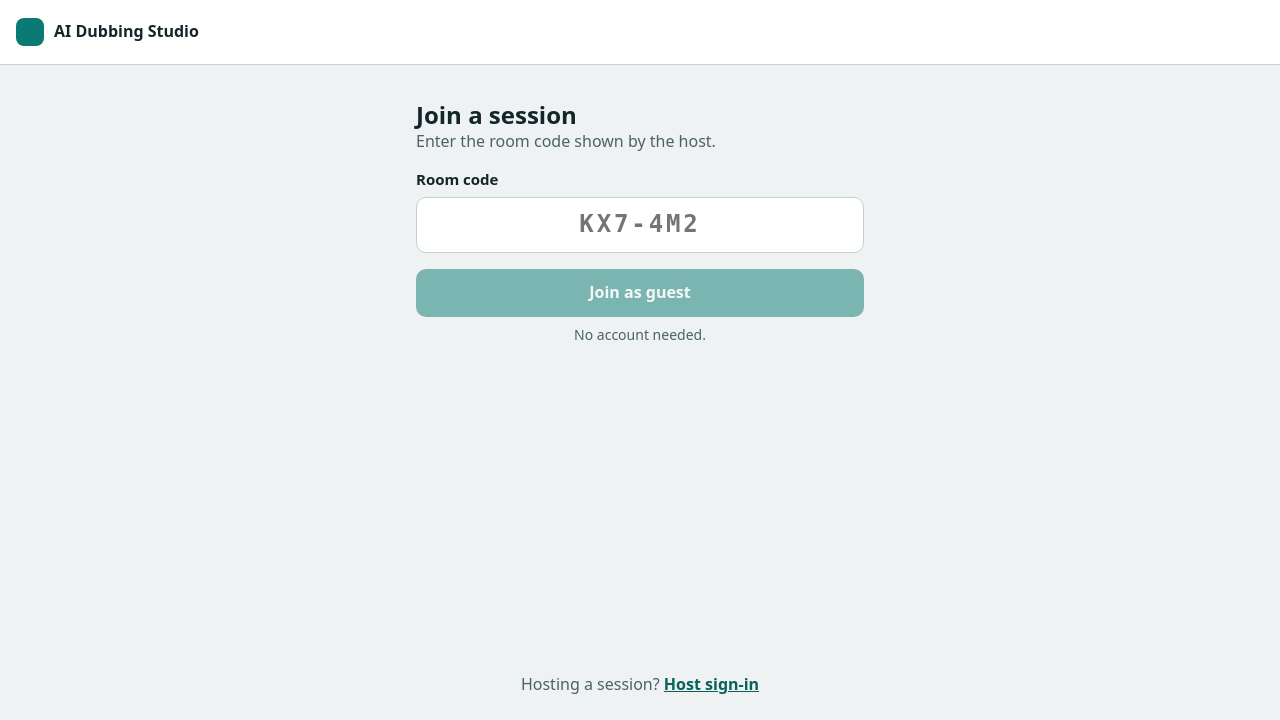
it: JoinPage › says so when no live session has the code
The image size is (1280, 720).
In the field labelled "Room code": (640, 225) x1=416 y1=197 x2=864 y2=253, type "kx74m2"
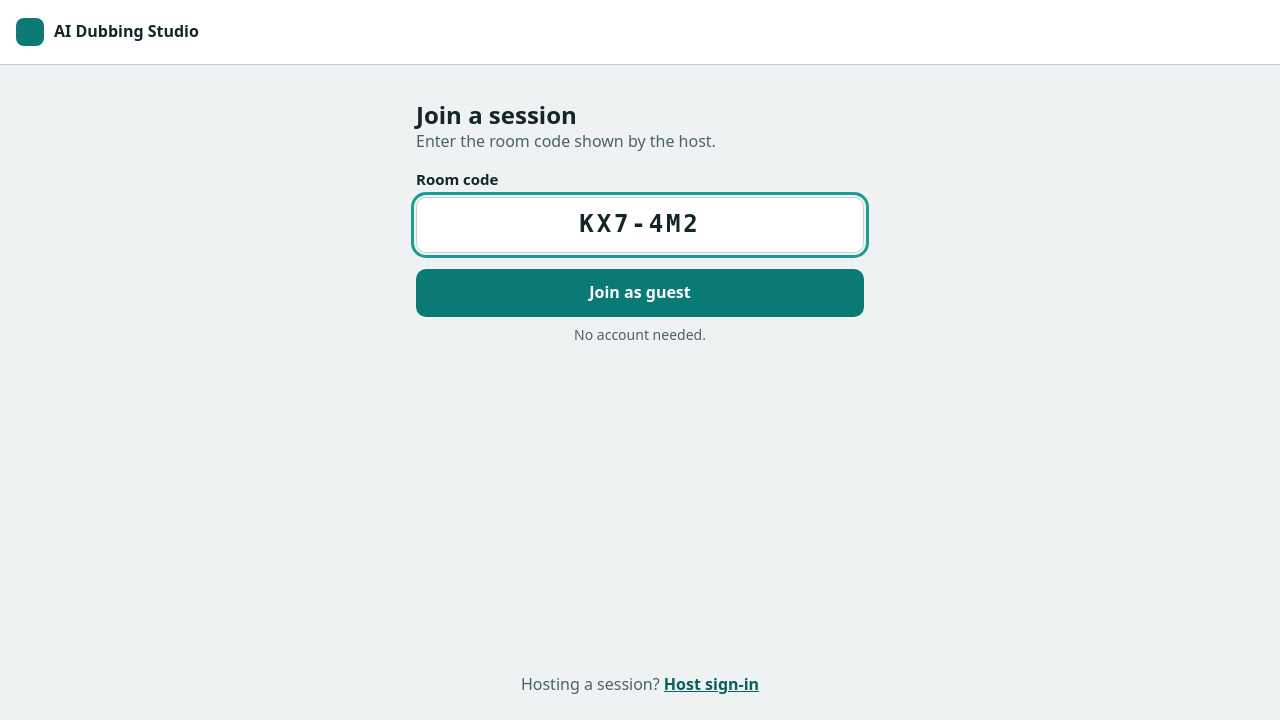
Click the button "Join as guest": (640, 293) x1=416 y1=269 x2=864 y2=317
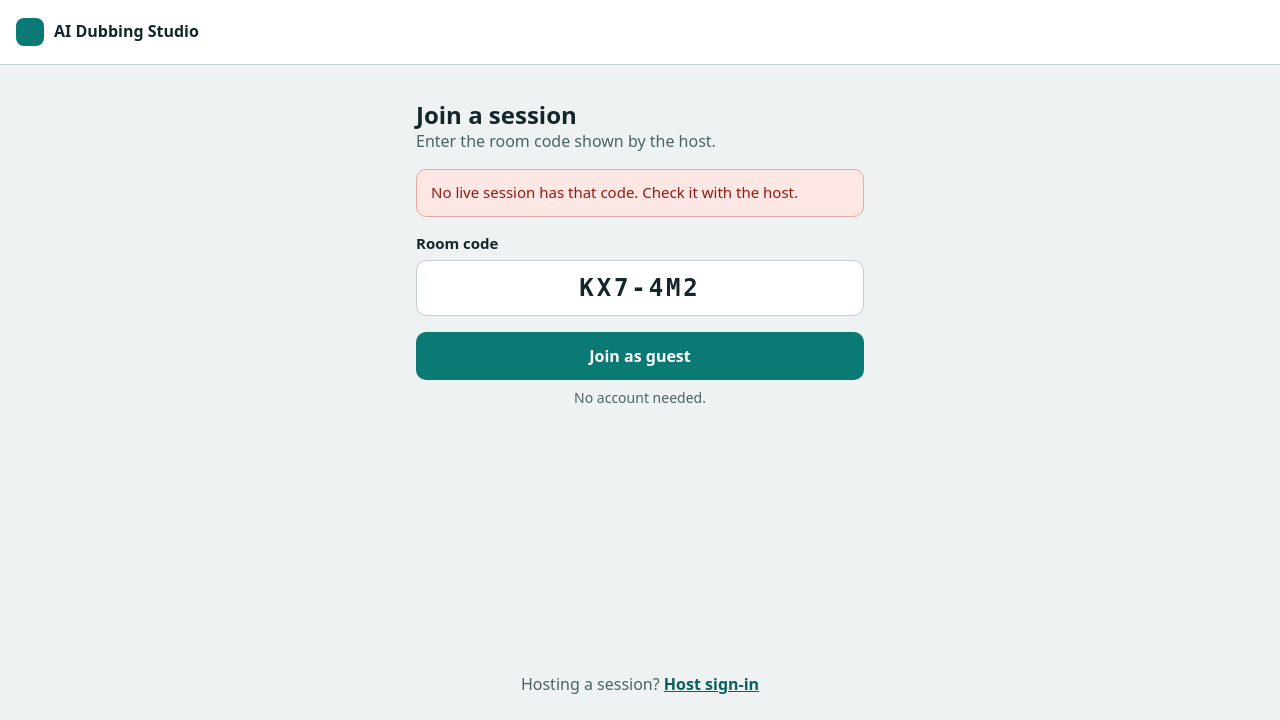
Expected: the message shows "No live session", x1=431 y1=182 x2=798 y2=202
